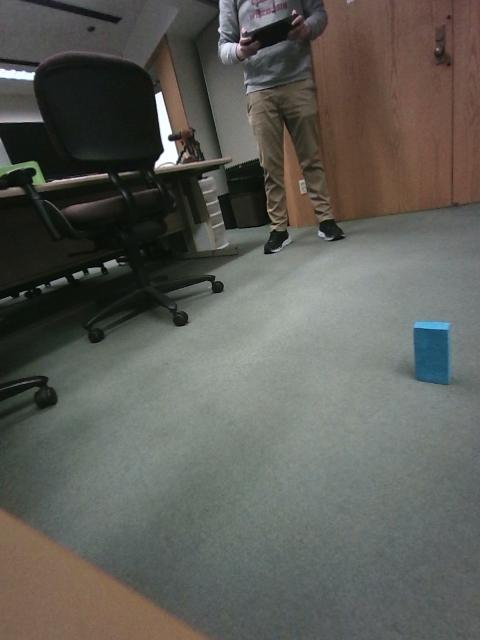block: (185, 322, 214, 363)
